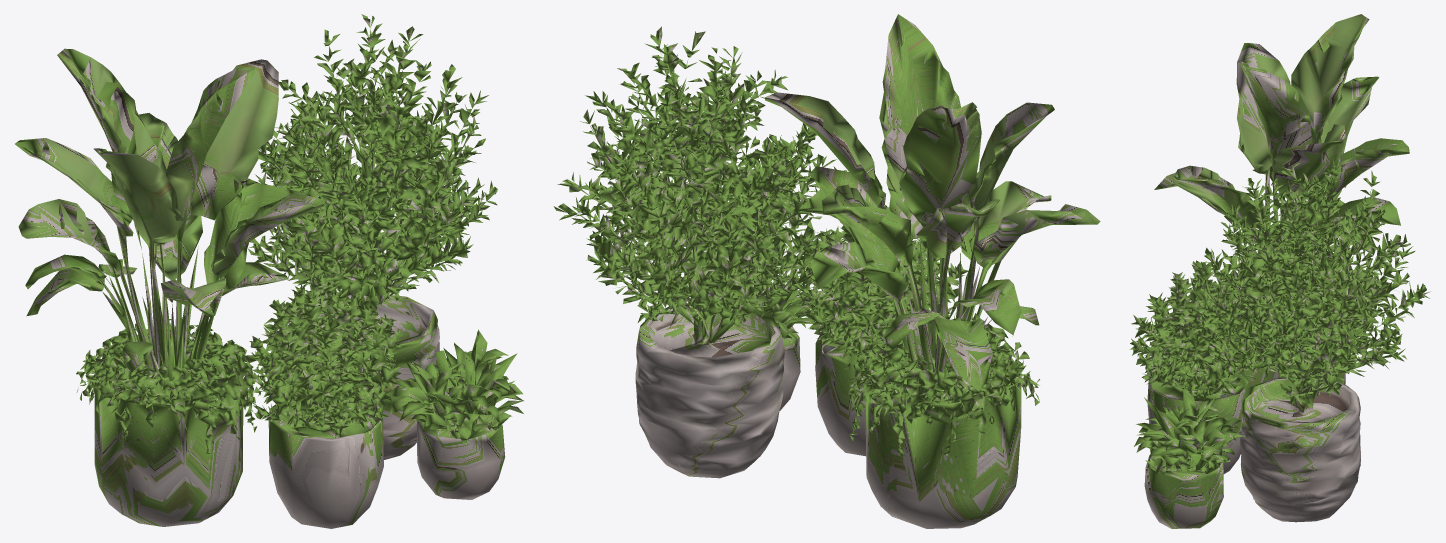
The model's file is pots.glb.
3 views of the same model, side by side, from view 1: azimuth 30°, elevation 25°; view 2: azimuth 150°, elevation 25°; view 3: azimuth 270°, elevation 25° (orthographic). The views are drawn at different scales.
Size of the model in its own units: 1.9 by 1.61 by 1.15.
1 material, 1 textured.
